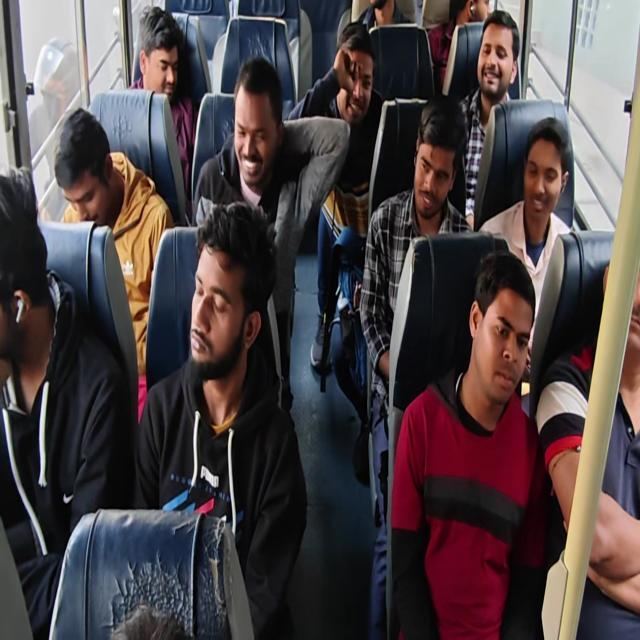person: (186, 217, 252, 379), (0, 171, 50, 367), (470, 271, 527, 417), (52, 105, 118, 220), (518, 124, 577, 242), (594, 227, 640, 364), (412, 110, 456, 230), (327, 29, 372, 138), (135, 11, 184, 106), (226, 72, 272, 171), (472, 24, 512, 97), (446, 0, 492, 47), (361, 0, 395, 20)
